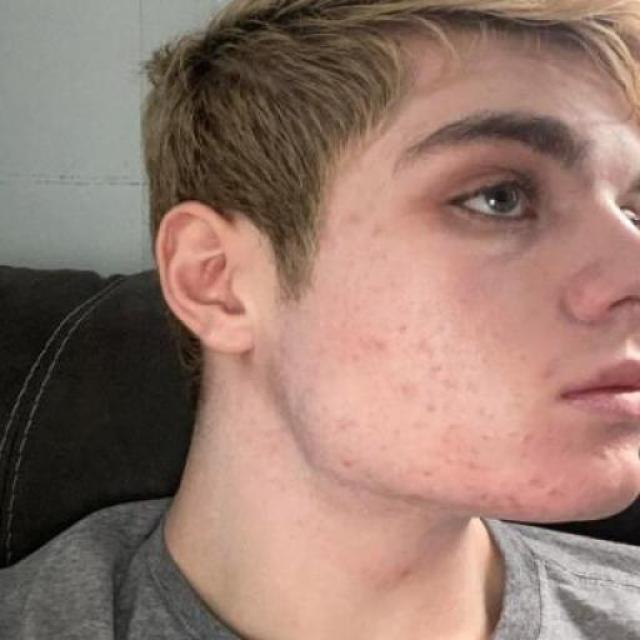Acne: (305, 215, 560, 514)
